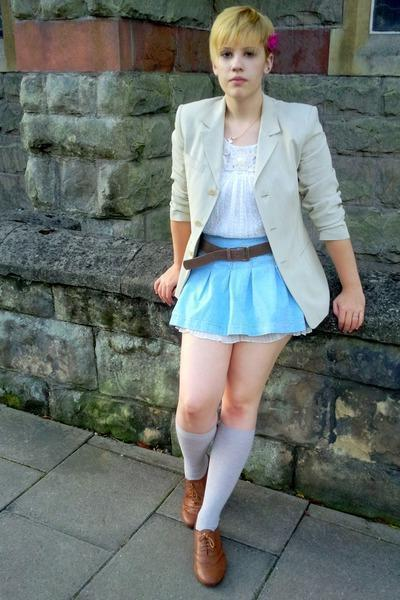jacket: (156, 95, 348, 331)
skirt: (168, 233, 306, 338)
vest: (202, 132, 274, 239)
